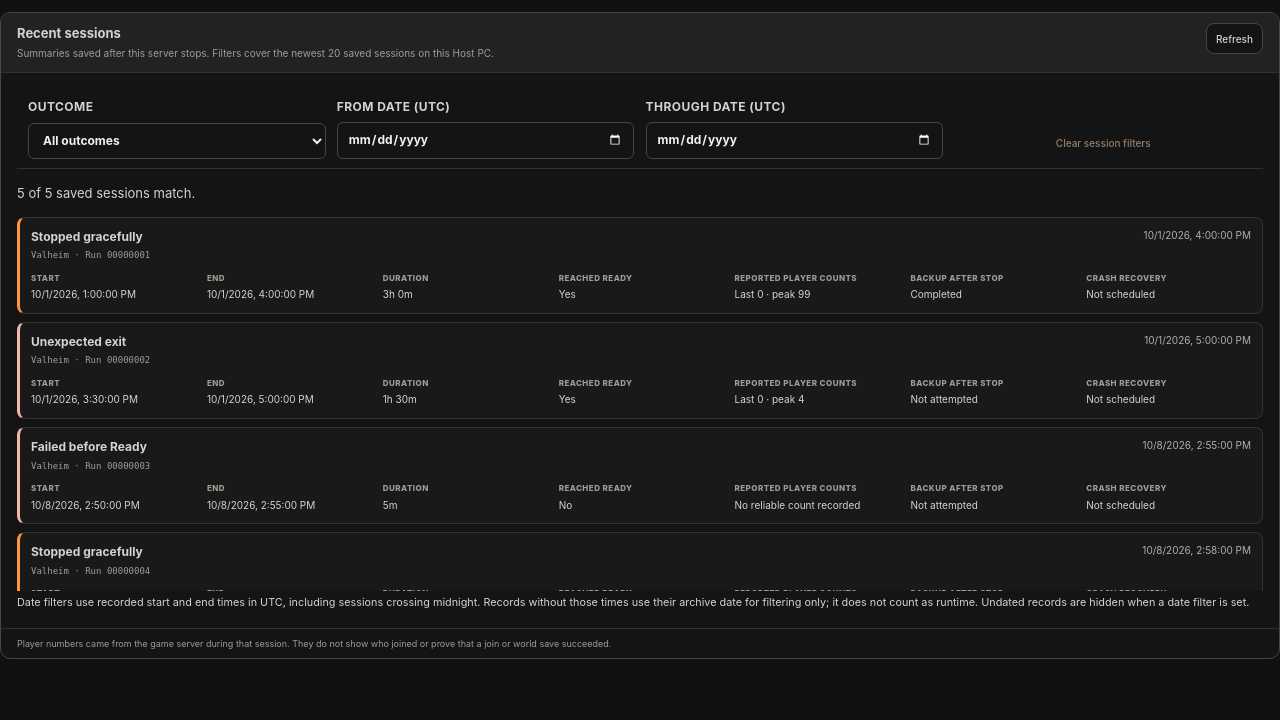
RecentSessions › filters outcomes and UTC dates, includes cross-midnight intervals, and leaves undated legacy evidence unplaced
The image size is (1280, 720).
Select "Failed before Ready" in the dropdown named "Session outcome" at (177, 141), box [28,123,326,159]
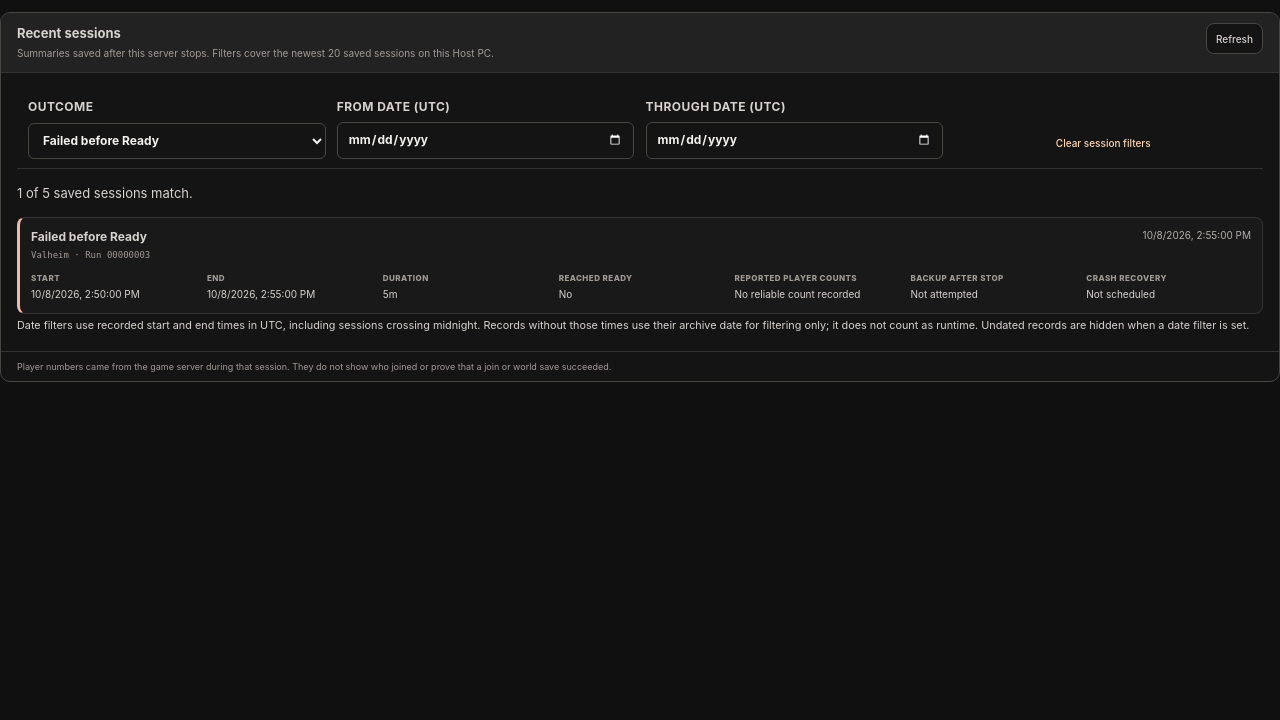
Check: the text "Failed before Ready" is shown, box [31,228,150,246]
Check: the text "1 of 5 saved sessions match." is shown, box [17,185,193,201]
Type "2026-10-07" into the date field named "Sessions through date (UTC)" at (794, 140), box [646,122,943,159]
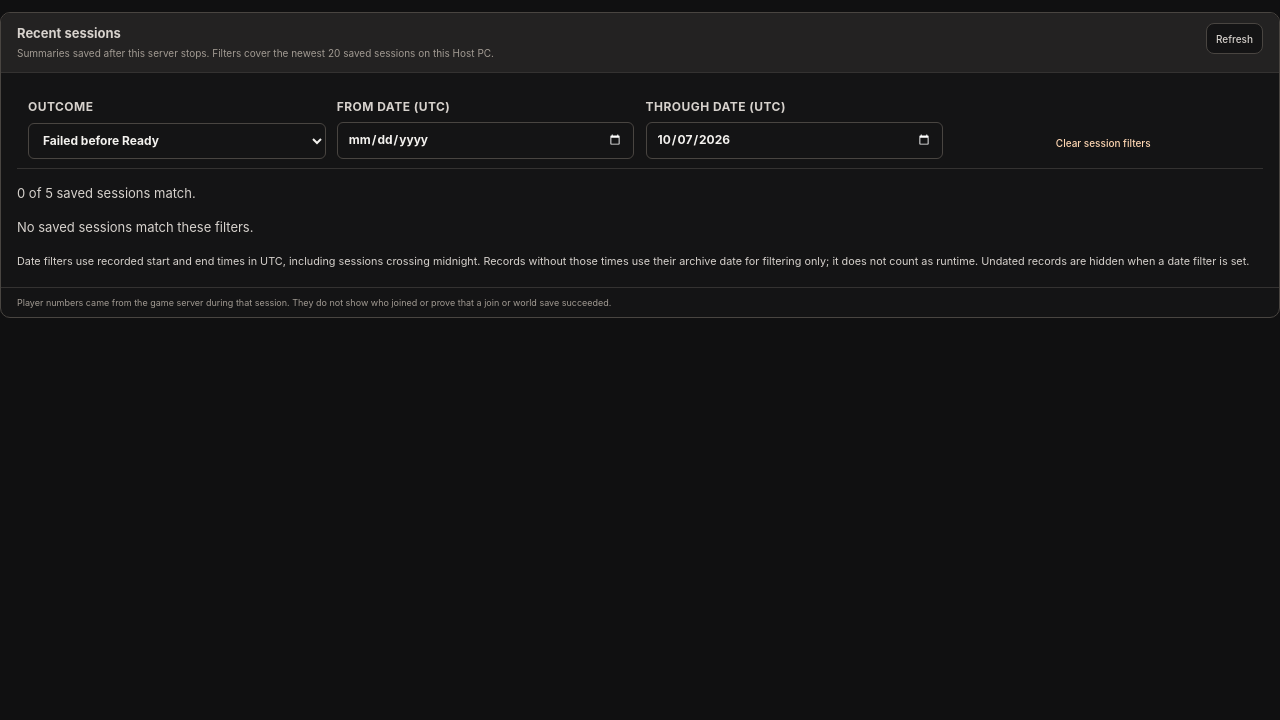
Check: the text "No saved sessions match these filters." is shown, box [17,219,254,235]
Type "2026-10-08" into the date field named "Sessions from date (UTC)" at (486, 140), box [337,122,634,159]
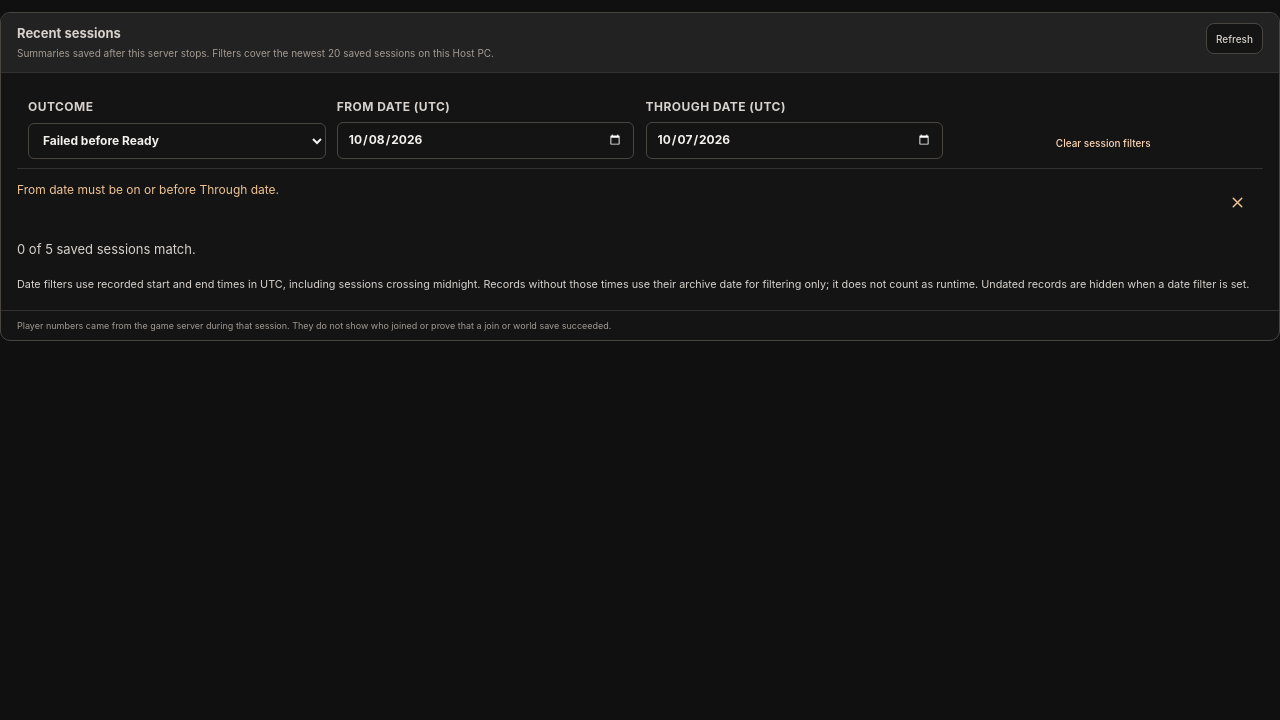
Check: the message "From date must be on or before Through date." is shown, box [17,181,1263,225]
Click the button "Clear session filters" at (1103, 143), box [954,128,1252,159]
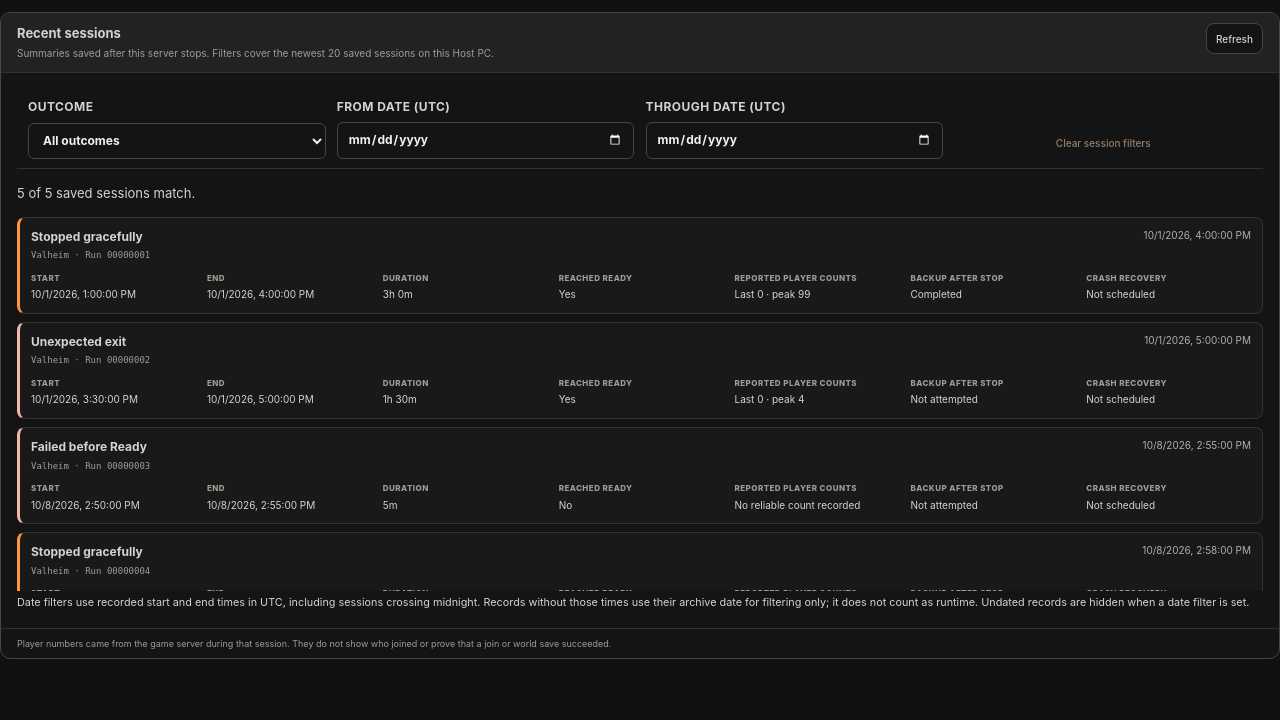
Check: the text "5 of 5 saved sessions match." is shown, box [17,185,195,201]
